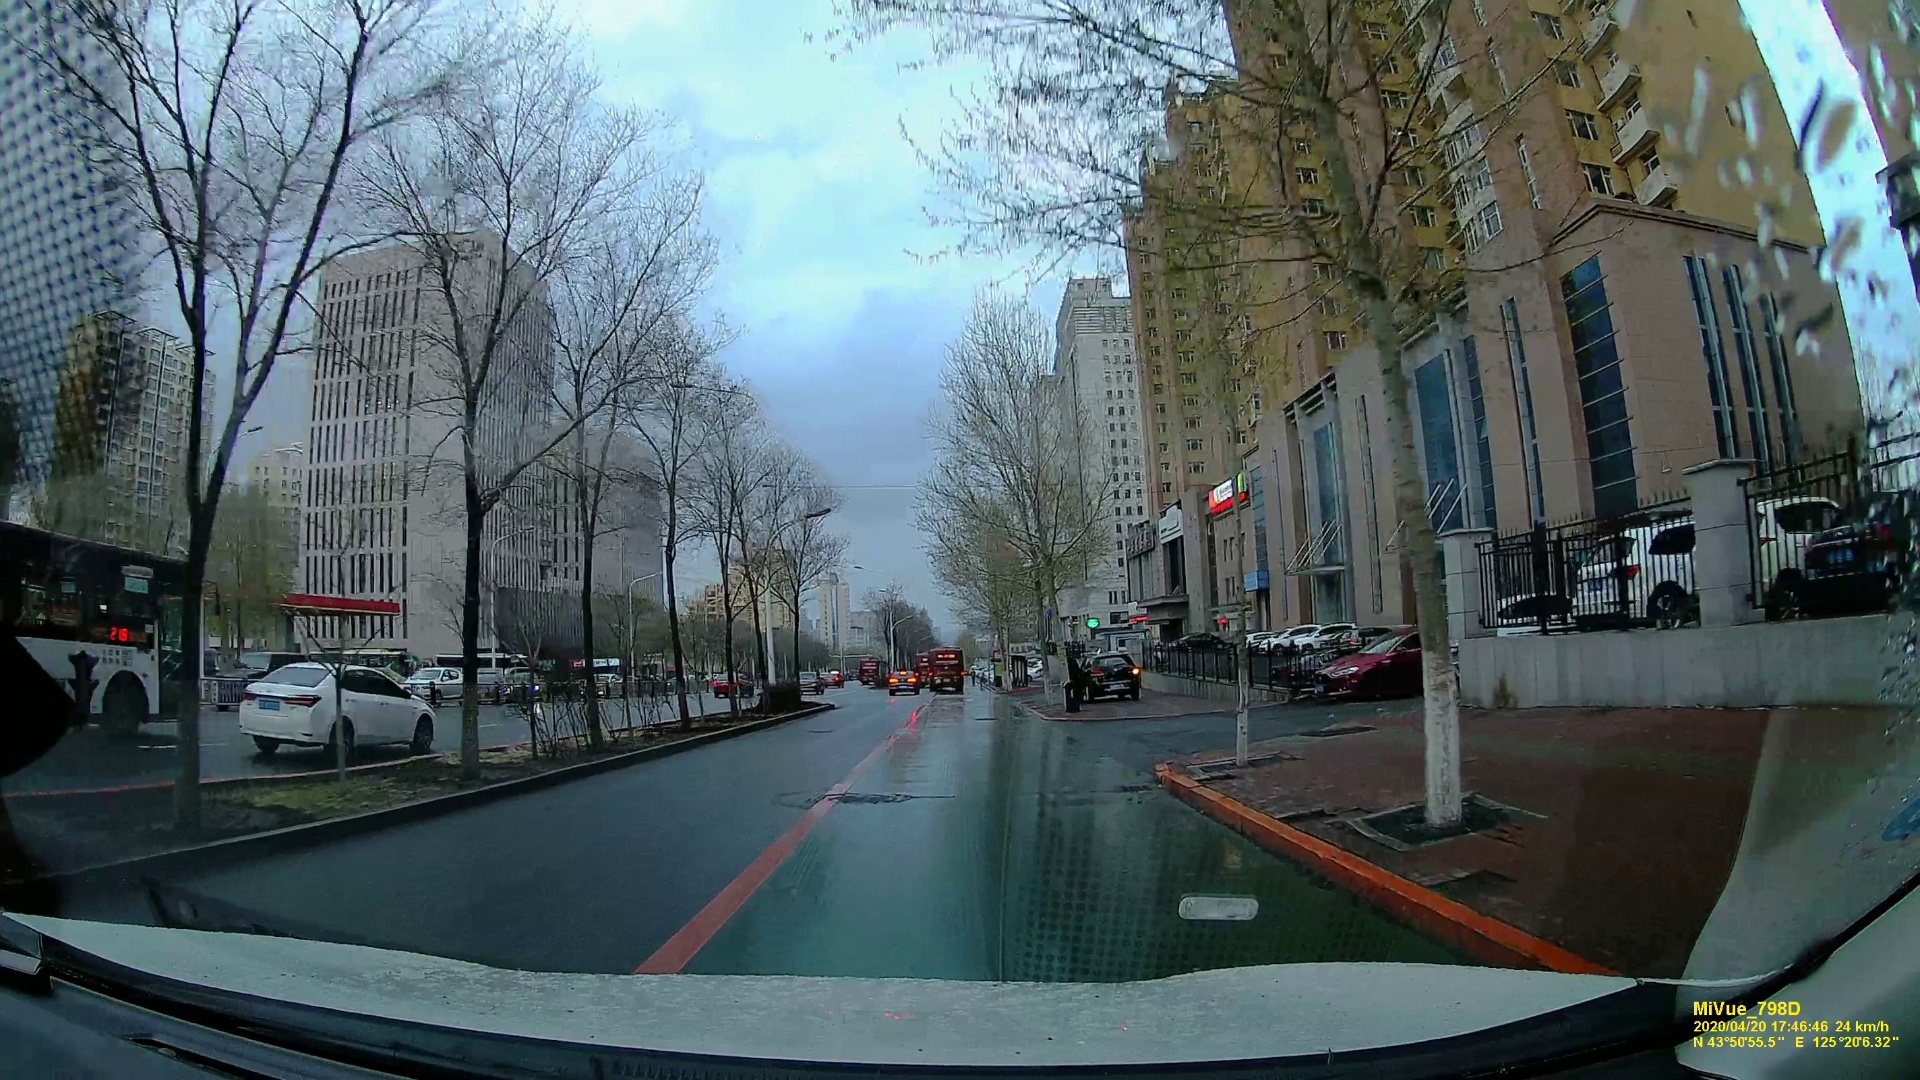bus: (1, 530, 190, 762), (927, 647, 965, 695), (859, 657, 883, 685)
person: (969, 666, 976, 686)
vehicle: (234, 660, 435, 758), (1077, 650, 1146, 702), (888, 671, 919, 694)
